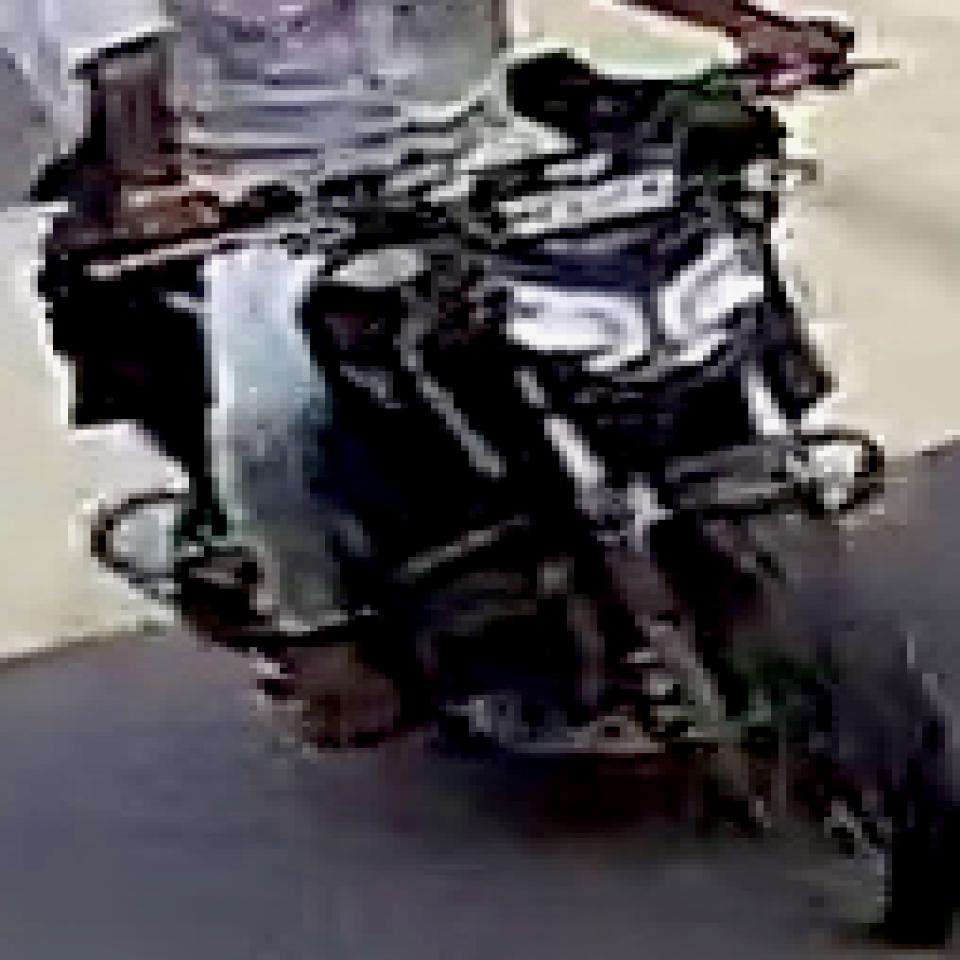head_light: (476, 235, 772, 375)
